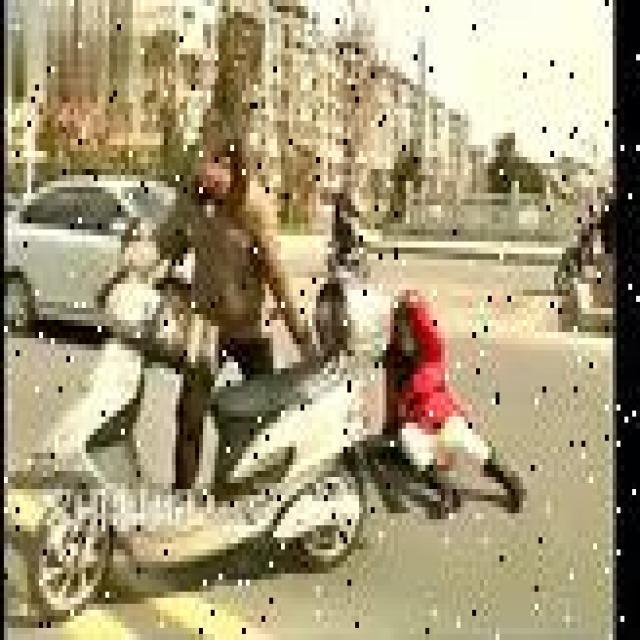fall: (382, 284, 530, 513)
